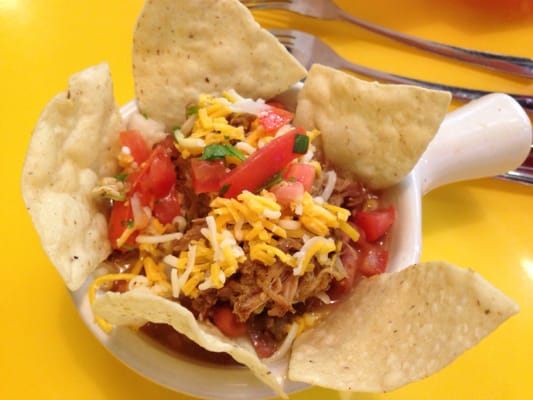soup: (130, 0, 309, 133)
